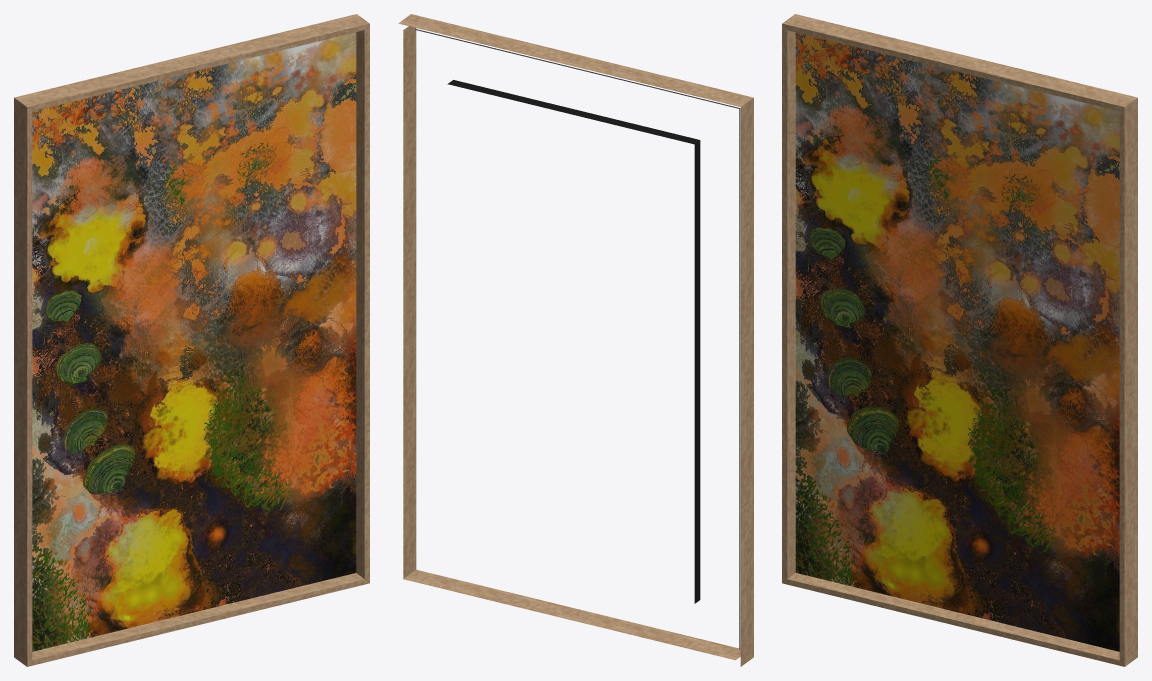
File: os019_moyen_caisse-chene.glb
3 renders of one model, left to right at view 1: azimuth 30°, elevation 25°; view 2: azimuth 150°, elevation 25°; view 3: azimuth 330°, elevation 25°, orthographic.
Parts seen in each view (by area): view 1: os019_moyen_caisse-chene; view 2: os019_moyen_caisse-chene; view 3: os019_moyen_caisse-chene.
Part boxes in pixels (bbox=[...]): os019_moyen_caisse-chene: bbox=[14, 14, 369, 666]; os019_moyen_caisse-chene: bbox=[398, 14, 753, 666]; os019_moyen_caisse-chene: bbox=[782, 14, 1137, 666].
Size of the model in its own units: 0.5304 by 0.828 by 0.035.
Materials: 4 (2 with a texture image).
